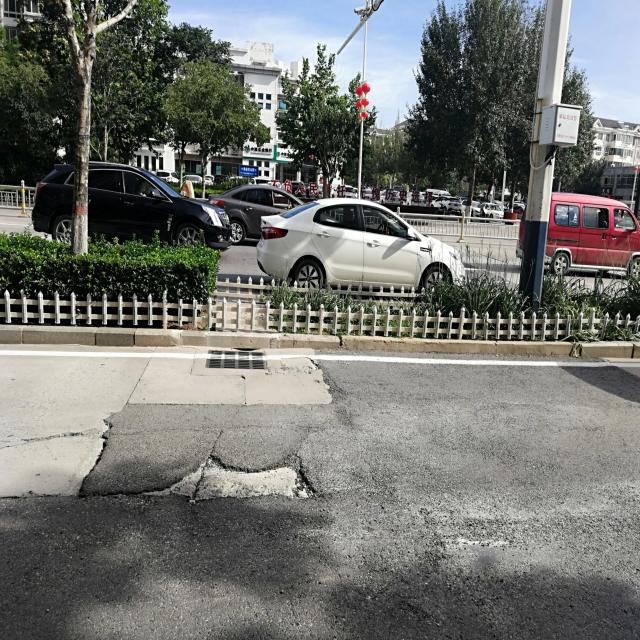Pothole: (143, 452, 319, 499)
